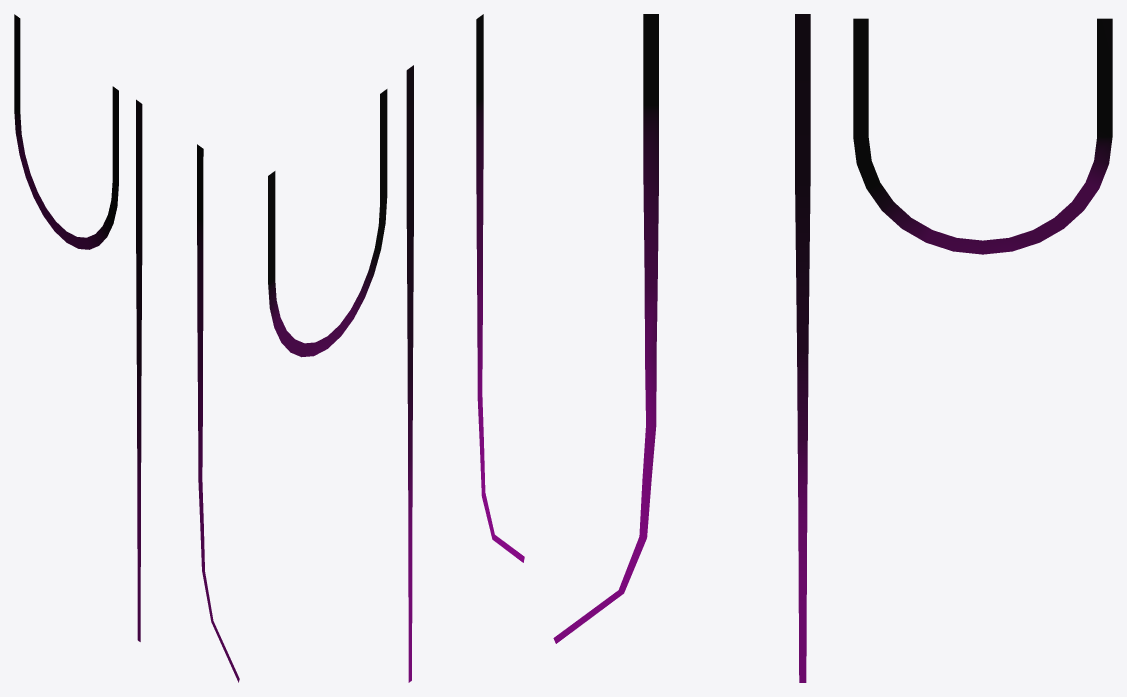
The model's file is vines.fbx.
The picture shows the model from 3 angles, left to right: view 1: azimuth 30°, elevation 25°; view 2: azimuth 150°, elevation 25°; view 3: azimuth 270°, elevation 25°; orthographic projection. The views are drawn at different scales.
Parts seen in each view (by area): view 1: Circle001, Plane003, Plane004; view 2: Circle001, Plane003, Plane004; view 3: Circle001, Plane003, Plane004.
Part boxes in pixels (left/top/right/bottom): Circle001: left=14, top=14, right=118, bottom=249; Plane003: left=136, top=99, right=142, bottom=641; Plane004: left=197, top=144, right=239, bottom=682; Circle001: left=268, top=89, right=387, bottom=357; Plane003: left=406, top=65, right=413, bottom=682; Plane004: left=476, top=14, right=524, bottom=562; Circle001: left=853, top=18, right=1112, bottom=254; Plane003: left=795, top=14, right=810, bottom=682; Plane004: left=553, top=14, right=658, bottom=643.
Size of the model in its own units: 0.000333 by 104 by 78.43.
